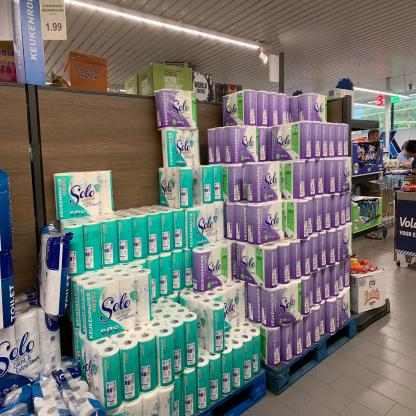prtg: (41, 1, 68, 41)
